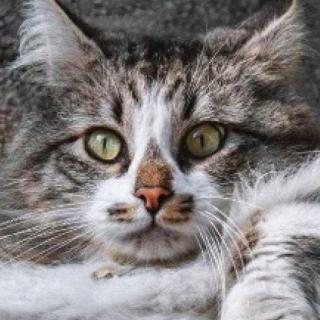cat: (24, 0, 302, 263)
nose: (126, 165, 175, 218)
